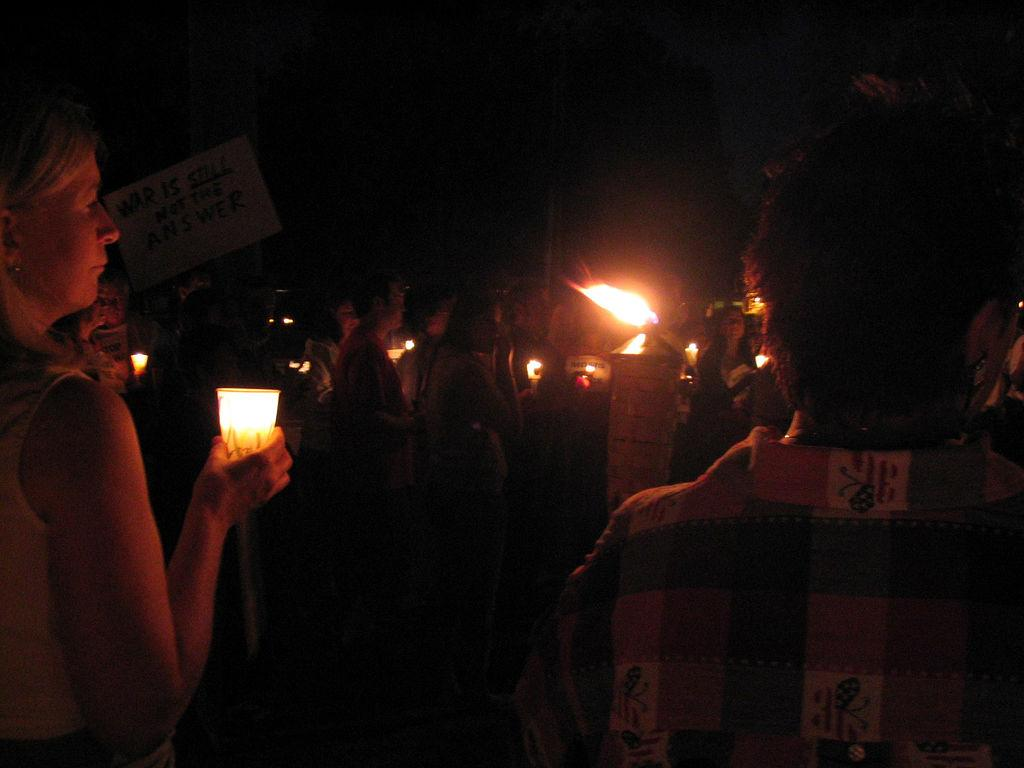fire: (604, 286, 658, 330), (226, 402, 278, 446)
